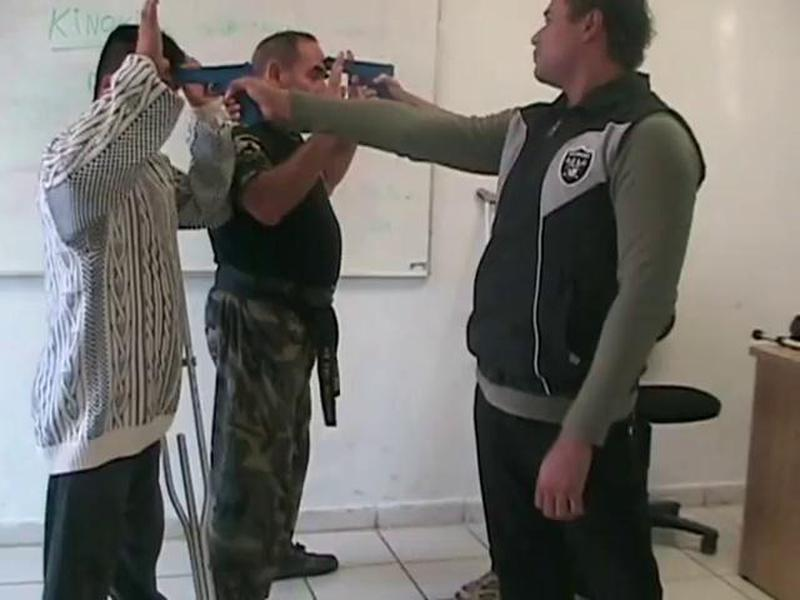Pistola: (173, 44, 277, 143)
